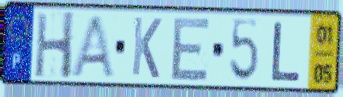5: (227, 17, 261, 84)
A: (68, 13, 118, 80)
E: (169, 16, 213, 83)
H: (33, 10, 77, 81)
K: (129, 14, 164, 81)
L: (269, 20, 303, 83)
